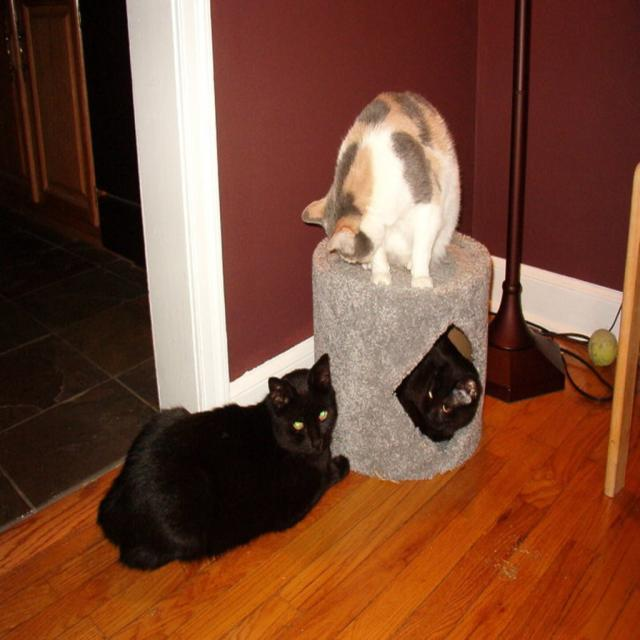Cat: (96, 346, 348, 570), (298, 90, 460, 286), (394, 332, 483, 441)
